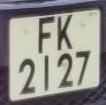1: (39, 52, 54, 95)
2: (15, 53, 41, 100), (53, 49, 76, 92)
7: (73, 47, 93, 90)
F: (33, 15, 57, 59)
K: (56, 12, 77, 56)
